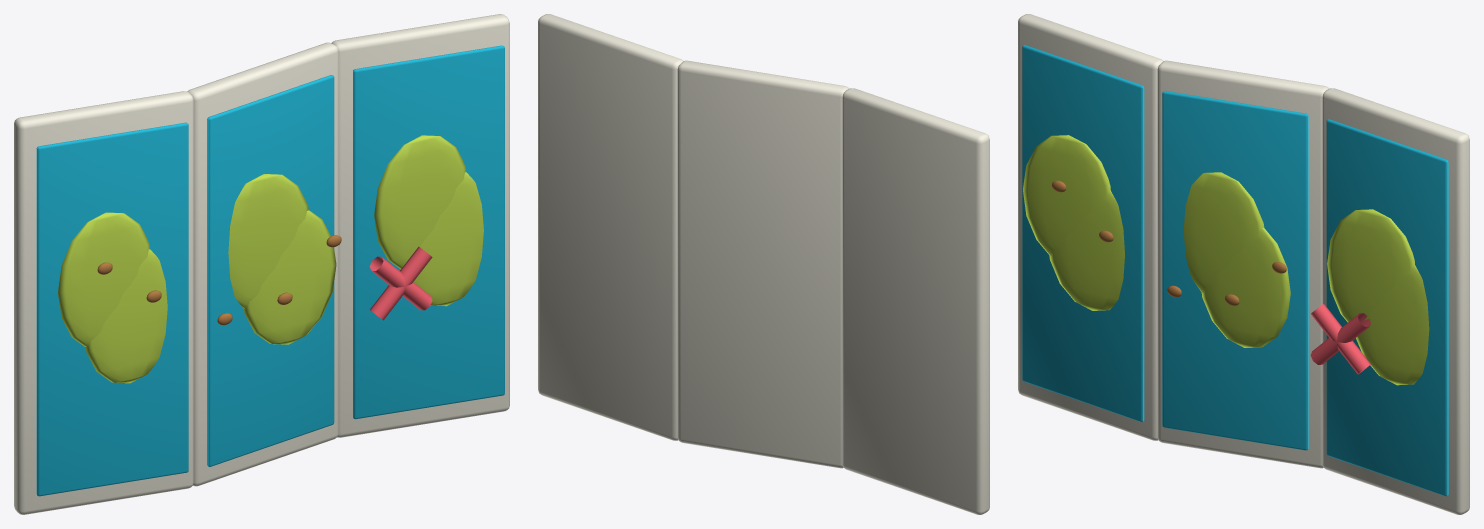
Rendered from folded_map.glb.
The picture shows the model from 3 angles, left to right: view 1: azimuth 30°, elevation 25°; view 2: azimuth 150°, elevation 25°; view 3: azimuth 330°, elevation 25°; orthographic projection. The views are drawn at different scales.
Visible parts, largest first — view 1: folded_map; view 2: folded_map; view 3: folded_map.
Boxes of the visible parts, x1,y1,x2,y2 form: folded_map: (14,14,509,514); folded_map: (538,14,989,514); folded_map: (1018,14,1469,514).
Size of the model in its own units: 0.8779 by 0.69 by 0.1126.
